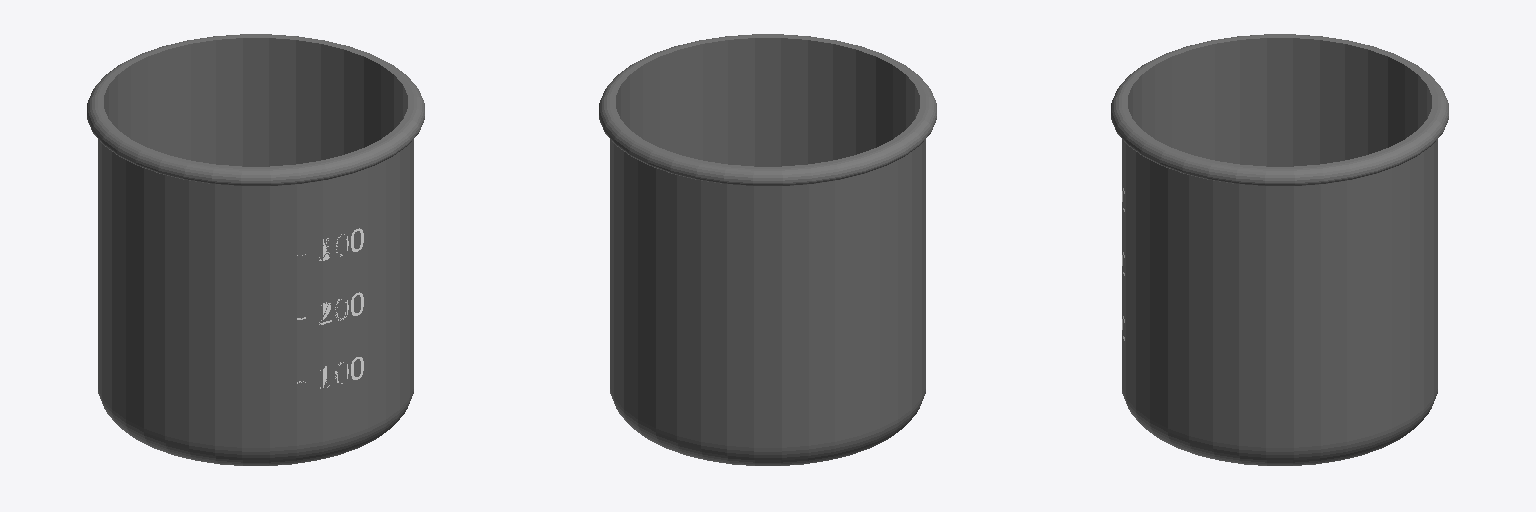
The model's file is Bekerglas.obj.
3 views of the same model, side by side, from view 1: azimuth 30°, elevation 25°; view 2: azimuth 150°, elevation 25°; view 3: azimuth 270°, elevation 25° (orthographic).
Parts seen in each view (by area): view 1: Mesh1 Group1 Model; view 2: Mesh1 Group1 Model; view 3: Mesh1 Group1 Model.
Boxes of the visible parts, x1=… form: Mesh1 Group1 Model: x1=87, y1=34, x2=424, y2=465; Mesh1 Group1 Model: x1=599, y1=34, x2=936, y2=465; Mesh1 Group1 Model: x1=1111, y1=34, x2=1448, y2=465.
Size of the model in its own units: 10.12 by 10.16 by 10.12.